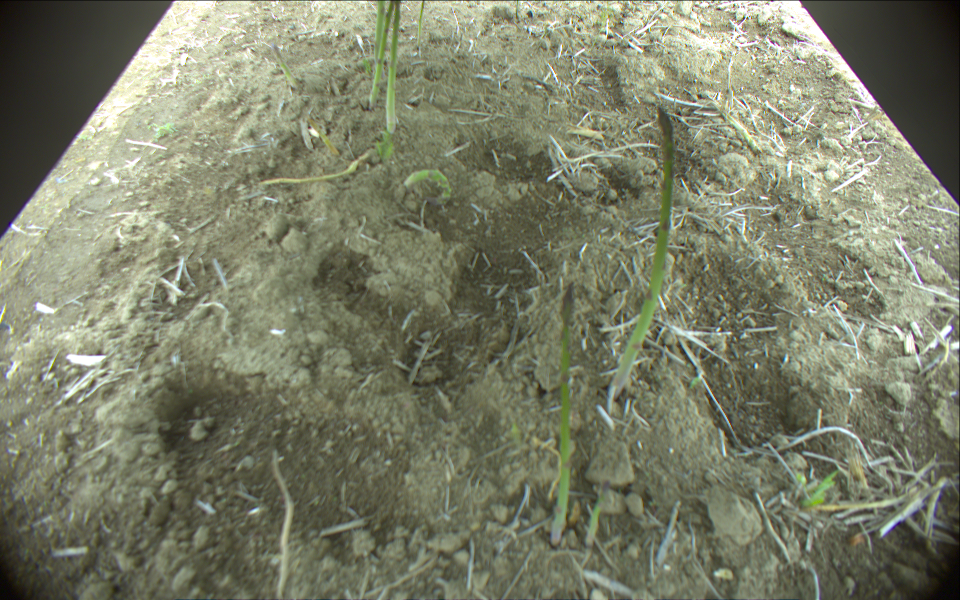aspa: (607, 102, 675, 400), (546, 282, 573, 550), (368, 1, 392, 106), (385, 1, 402, 130), (585, 484, 609, 550), (273, 44, 299, 86), (375, 1, 387, 68), (418, 1, 425, 49)
